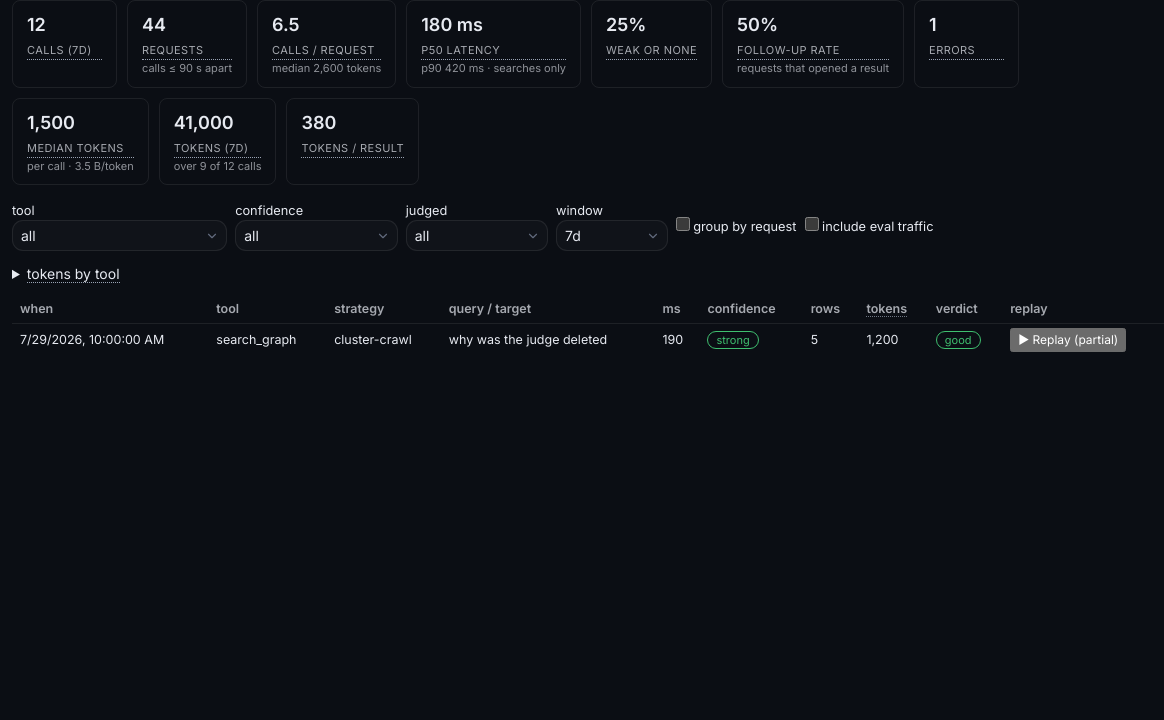
it: LiveTraces drill-down › expands a row into args, labelled results, and judgments
Click the text "why was the judge deleted" at (548, 340), box [441,323,654,356]
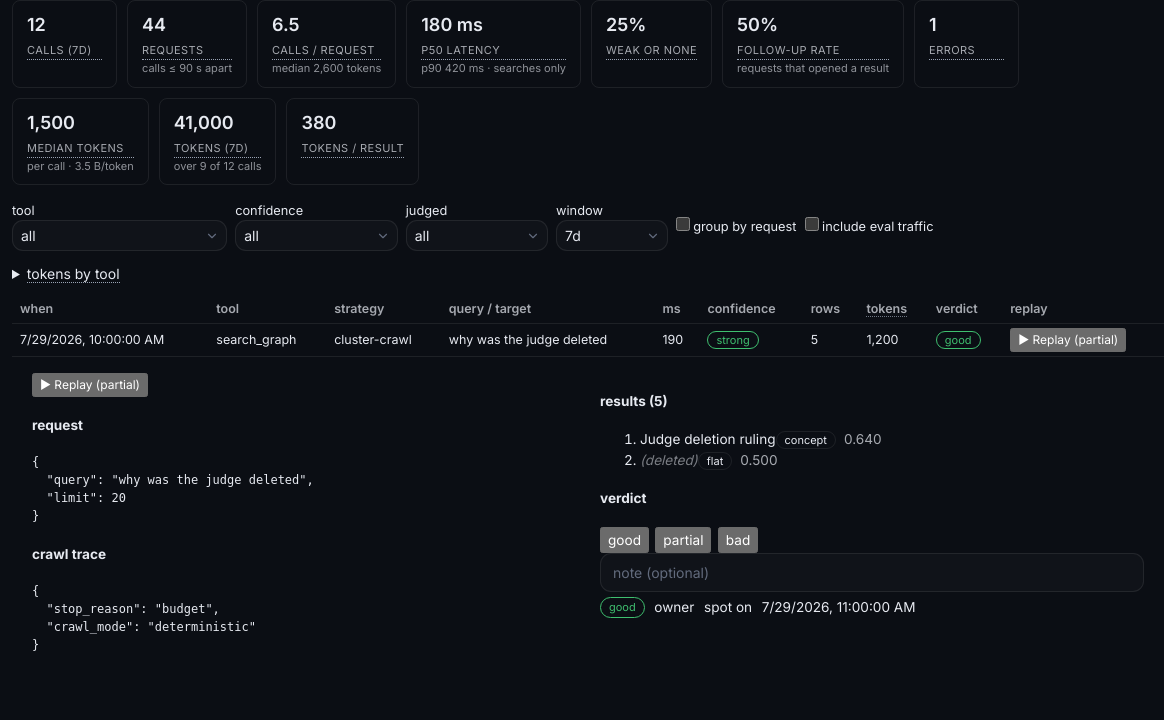
Check: the text "Judge deletion ruling" is shown, box [640,432,776,448]
Check: the text "(deleted)" is shown, box [640,452,698,468]
Check: the text "{ \"query\": \"why was the judge deleted\", \"limit\": 20 }" is shown, box [32,456,314,524]
